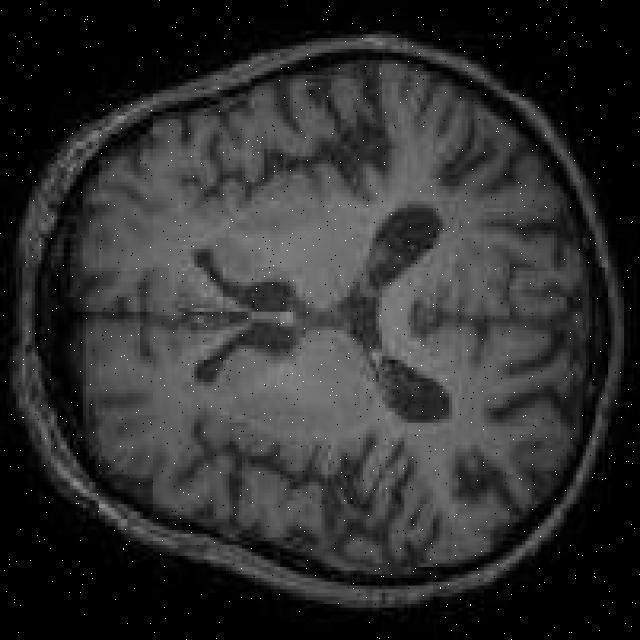No_Tumor: (13, 36, 623, 607)
